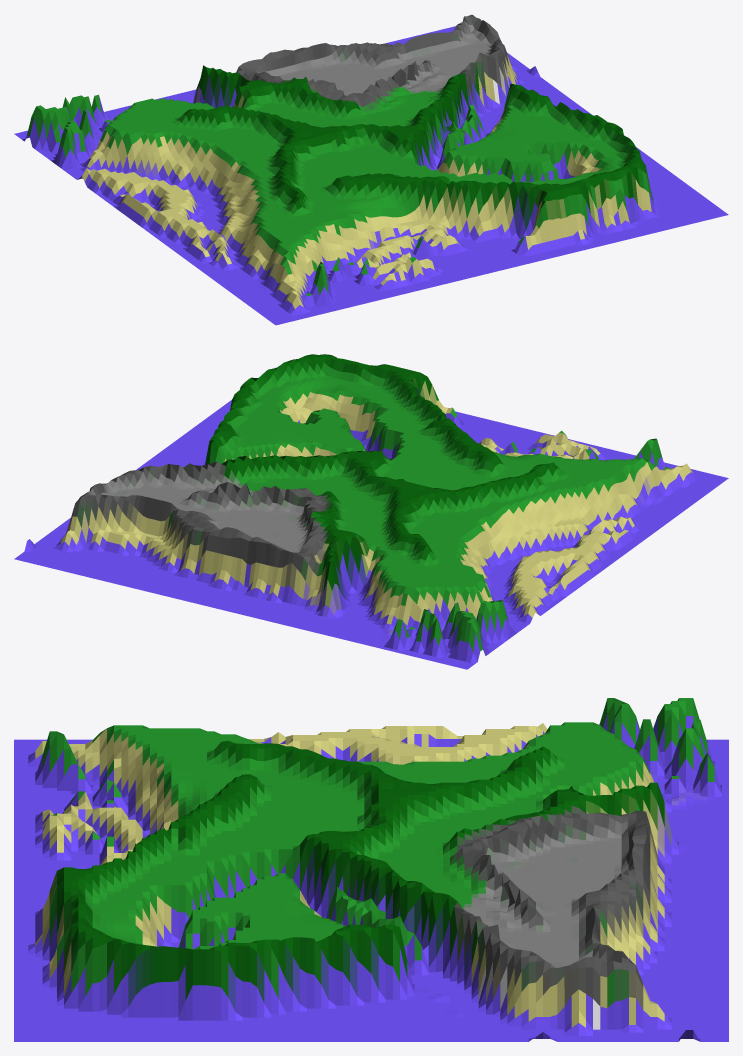
The model's file is island.glb.
3 views of the same model, one above another, from view 1: azimuth 30°, elevation 25°; view 2: azimuth 150°, elevation 25°; view 3: azimuth 270°, elevation 25° (orthographic). The views are drawn at different scales.
Visible parts, largest first — view 1: Plane; view 2: Plane; view 3: Plane.
Boxes of the visible parts, x1,y1,x2,y2 form: Plane: (14, 14, 728, 325); Plane: (14, 354, 728, 669); Plane: (14, 698, 728, 1041).
Bounding box in the file's own units: 100 × 11.54 × 100.
1 material, 1 textured.
